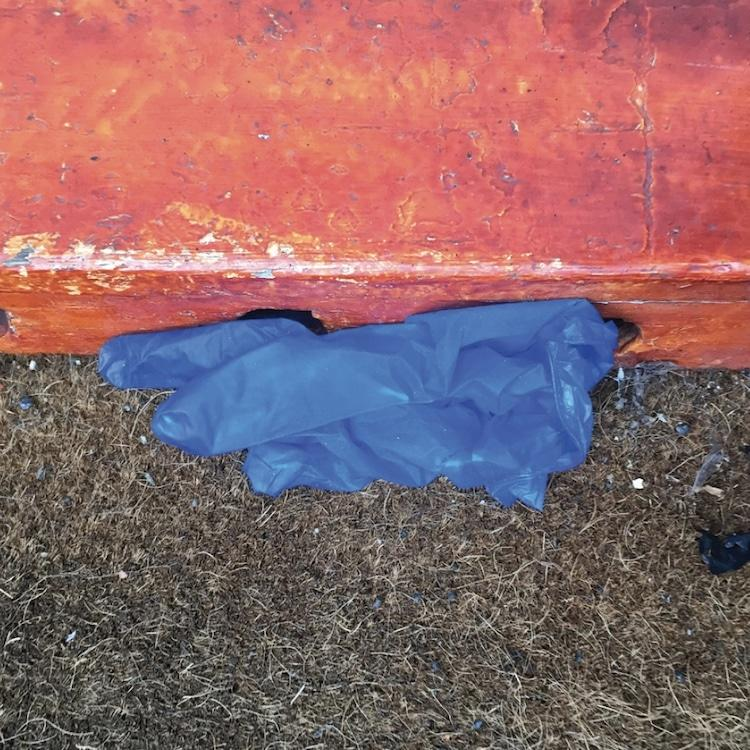gloves: (95, 299, 646, 528)
